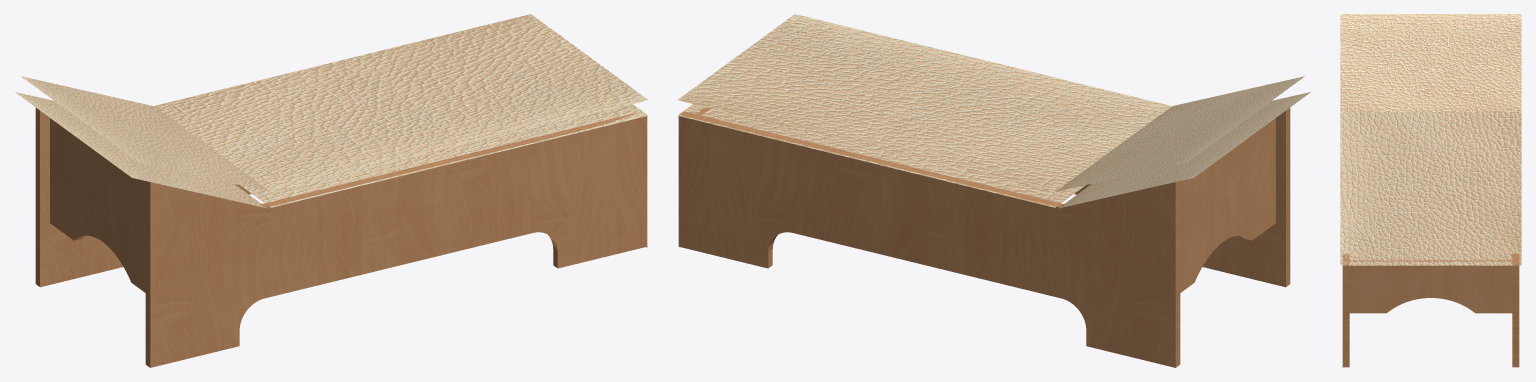
File: banketka_ot_nabora_ajbolit_2.glb
The picture shows the model from 3 angles, left to right: view 1: azimuth 30°, elevation 25°; view 2: azimuth 150°, elevation 25°; view 3: azimuth 270°, elevation 25°; orthographic projection. The views are drawn at different scales.
Visible parts, largest first — view 1: Shape_IndexedFaceSet.012_NON, Shape_IndexedFaceSet.009, Shape_IndexedFaceSet.004, Shape_IndexedFaceSet.010_NON, Shape_IndexedFaceSet.013_NON; view 2: Shape_IndexedFaceSet.013_NON, Shape_IndexedFaceSet.009, Shape_IndexedFaceSet.004, Shape_IndexedFaceSet.010_NON, Shape_IndexedFaceSet.012_NON; view 3: Shape_IndexedFaceSet.009, Shape_IndexedFaceSet.004, Shape_IndexedFaceSet.011_NON, Shape_IndexedFaceSet.013_NON, Shape_IndexedFaceSet.012_NON.
Boxes of the visible parts, bbox=[...] form: Shape_IndexedFaceSet.012_NON: bbox=[145, 111, 647, 367]; Shape_IndexedFaceSet.009: bbox=[154, 14, 647, 207]; Shape_IndexedFaceSet.004: bbox=[15, 76, 273, 208]; Shape_IndexedFaceSet.010_NON: bbox=[50, 118, 145, 292]; Shape_IndexedFaceSet.013_NON: bbox=[35, 108, 251, 287]; Shape_IndexedFaceSet.013_NON: bbox=[678, 111, 1180, 367]; Shape_IndexedFaceSet.009: bbox=[678, 14, 1171, 207]; Shape_IndexedFaceSet.004: bbox=[1052, 76, 1310, 208]; Shape_IndexedFaceSet.010_NON: bbox=[1180, 118, 1275, 292]; Shape_IndexedFaceSet.012_NON: bbox=[1074, 108, 1290, 287]; Shape_IndexedFaceSet.009: bbox=[1340, 112, 1521, 265]; Shape_IndexedFaceSet.004: bbox=[1340, 14, 1521, 111]; Shape_IndexedFaceSet.011_NON: bbox=[1349, 259, 1512, 313]; Shape_IndexedFaceSet.013_NON: bbox=[1512, 253, 1519, 367]; Shape_IndexedFaceSet.012_NON: bbox=[1342, 253, 1349, 367].
Bounding box in the file's own units: 1041 × 405 × 410.
Materials: 7 (6 with a texture image).
